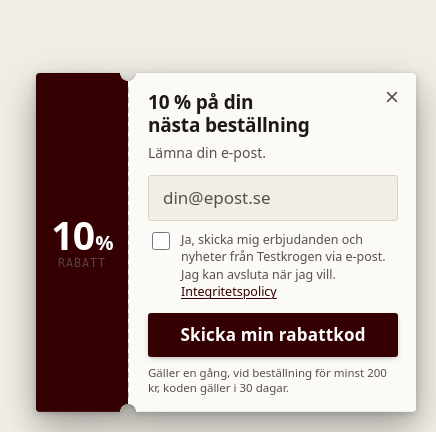
Scenario: OfferCard › appears after the delay, counts one view and signs up with consent
This screenshot has width=436, height=432.
expect the heading "10 % på din nästa beställning" is shown: met, box [148,89,310,138]
expect the text "Gäller en gång, vid beställning för minst 200 kr, koden gäller i 30 dagar" is shown: met, box [148,365,387,396]
In the field with placeholder "din@epost.se": coordinates (273, 198) [148,175,398,221], type "ny@example.se"
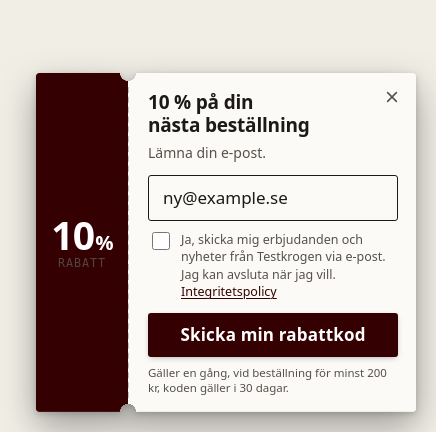
Click the button "Skicka min rabattkod": coordinates (273, 335) [148,313,398,357]
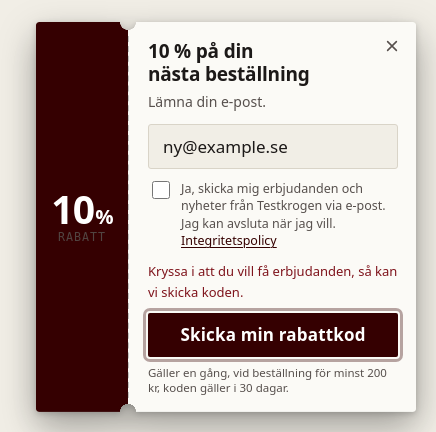
expect the message shows "Kryssa i att du vill få erbjudanden": met, box [148,262,397,301]
Click the checkbox: coordinates (161, 189) [152,180,170,198]
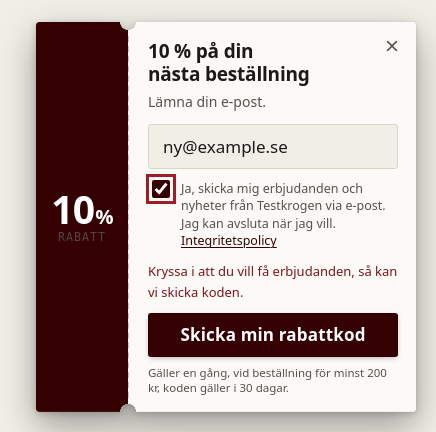
Click the button "Skicka min rabattkod": coordinates (273, 335) [148,313,398,357]
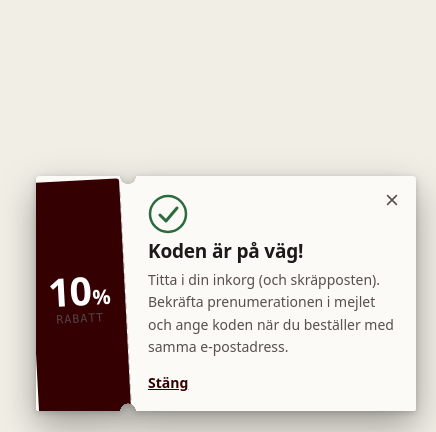
expect the heading "Koden är på väg!" is shown: met, box [148,238,303,264]
